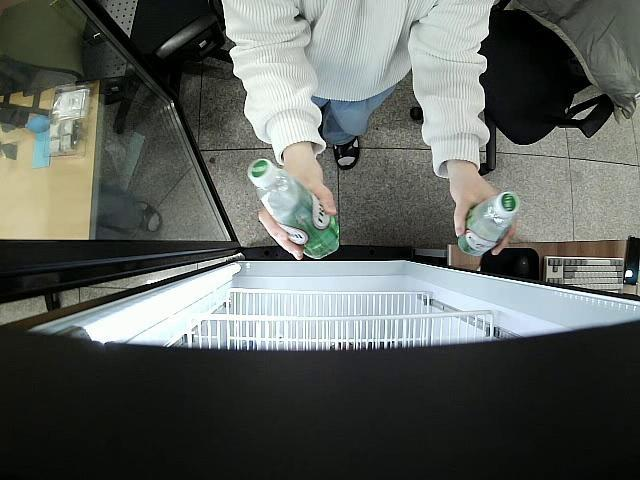18_trevi: (249, 158, 342, 258), (458, 193, 518, 256)
